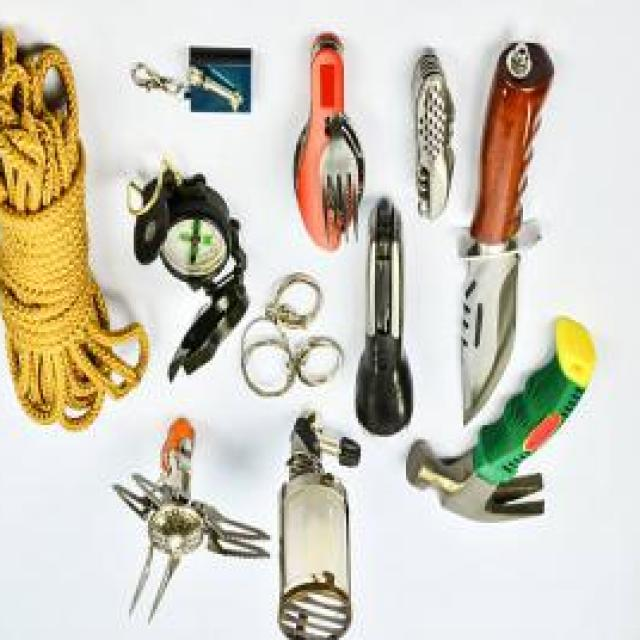knife: (442, 43, 556, 427)
